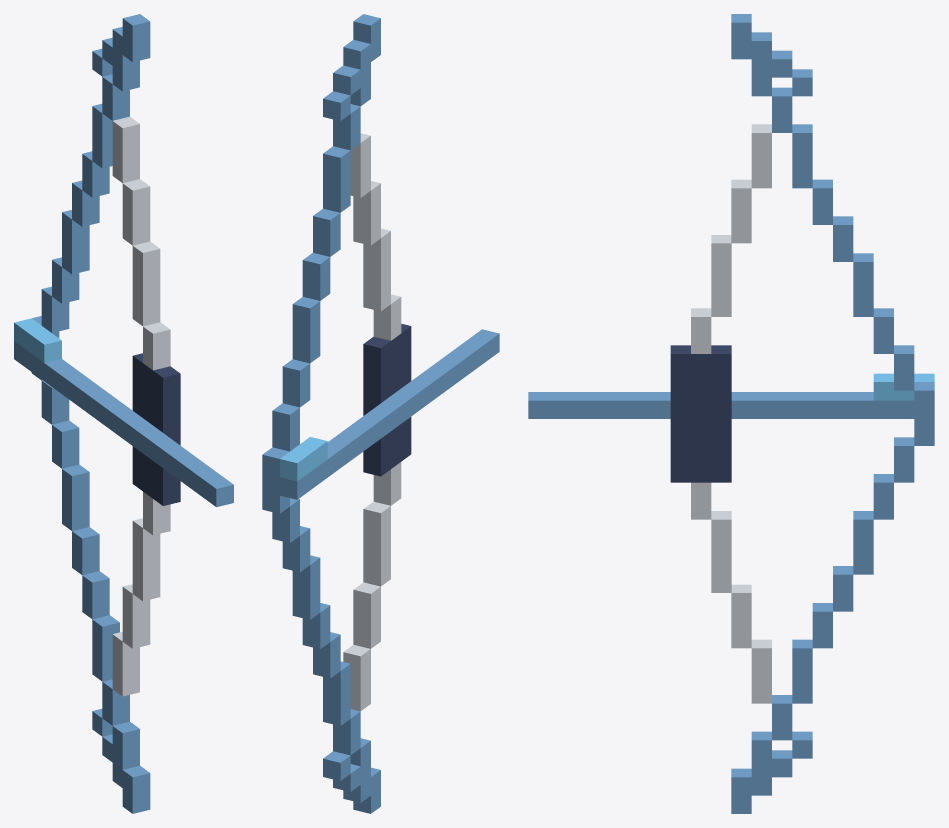
The model's file is vox_beam_bow.glb.
3 views of the same model, side by side, from view 1: azimuth 30°, elevation 25°; view 2: azimuth 150°, elevation 25°; view 3: azimuth 270°, elevation 25° (orthographic).
Visible parts, largest first — view 1: vox_beam_bow; view 2: vox_beam_bow; view 3: vox_beam_bow.
Part boxes in pixels (x1,y1,x2,y2): vox_beam_bow: (14, 14, 233, 813); vox_beam_bow: (262, 14, 499, 813); vox_beam_bow: (528, 14, 934, 813).
Bounding box in the file's own units: 0.04 × 0.86 × 0.4.
